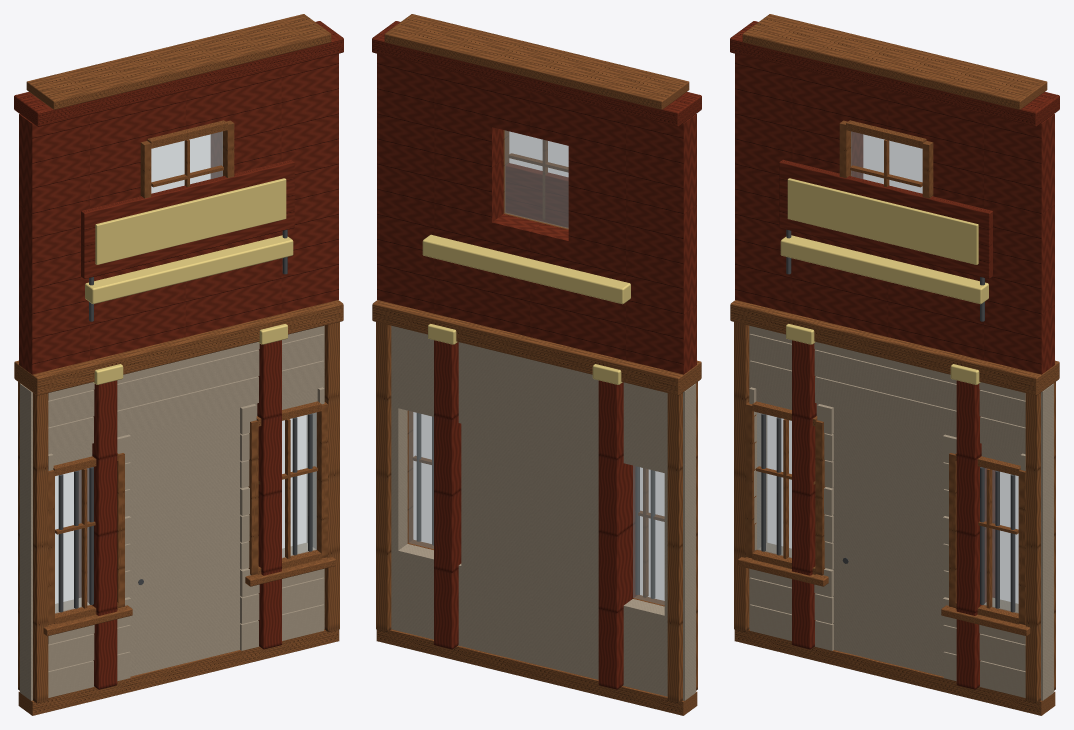
Rendered from wild-west-frontier-town-bank-facade-bay-c9e4464b__30122.glb.
3 views of the same model, side by side, from view 1: azimuth 30°, elevation 25°; view 2: azimuth 150°, elevation 25°; view 3: azimuth 330°, elevation 25° (orthographic).
Visible parts, largest first — view 1: bank-facade-bay; view 2: bank-facade-bay; view 3: bank-facade-bay.
Part boxes in pixels (x1,y1,x2,y2): bank-facade-bay: [14, 14, 343, 715]; bank-facade-bay: [372, 14, 701, 715]; bank-facade-bay: [730, 14, 1059, 715].
Bounding box in the file's own units: 3.2 × 6.14 × 0.5199.
Materials: 6 (3 with a texture image).
